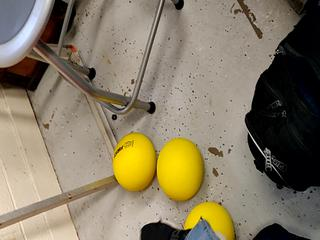power_cell: (158, 136, 208, 200), (108, 127, 158, 191), (184, 203, 235, 240)
